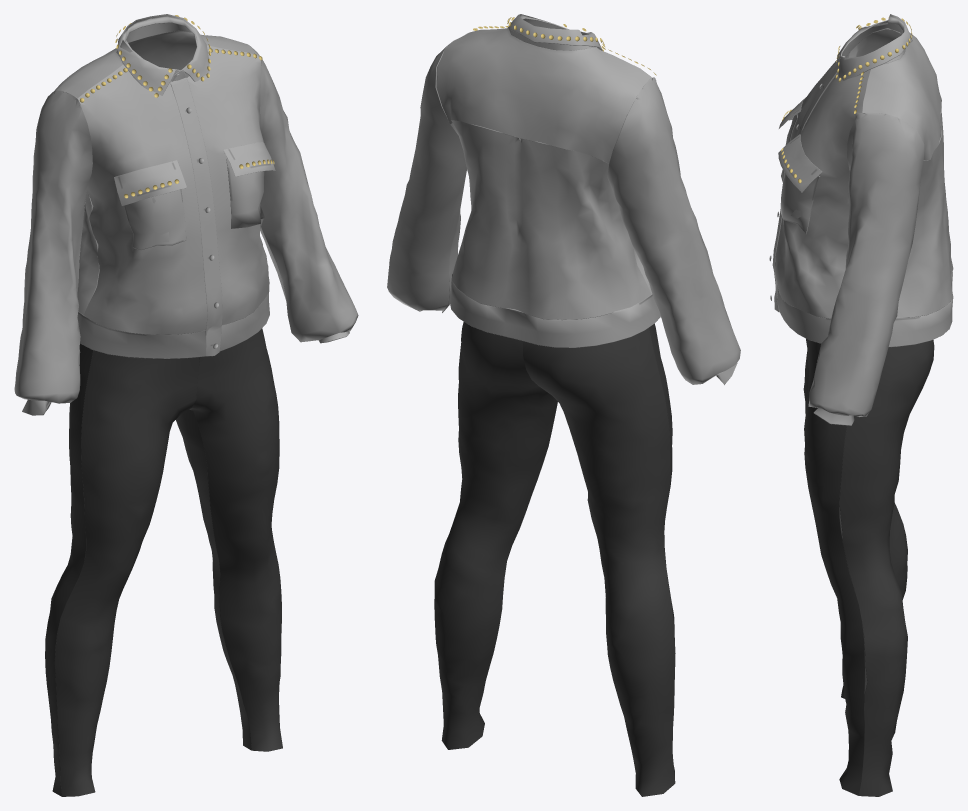
File: tofferjacket + legging.fbx
3 views of the same model, side by side, from view 1: azimuth 30°, elevation 25°; view 2: azimuth 150°, elevation 25°; view 3: azimuth 270°, elevation 25° (orthographic). The views are drawn at different scales.
Parts seen in each view (by area): view 1: 前片_3, 前片_1, 凯信-Toffe jacket_前片_3, 凯信-Toffe jacket_袖面_3, 凯信-Toffe jacket_袖面_4, 凯信-Toffe jacket_前片_4, 后片_3, 凯信-Toffe jacket_下摆_8, 凯信-Toffe jacket_门襟_3, 凯信-Toffe jacket_后育克_3, 后片_1, 凯信-Toffe jacket_袋 (+6 smaller); view 2: 后片_3, 凯信-Toffe jacket_后片_3, 后片_1, 凯信-Toffe jacket_袖面_3, 凯信-Toffe jacket_后育克_3, 凯信-Toffe jacket_袖面_4, 凯信-Toffe jacket_下摆_8, 凯信-Toffe jacket_上领, 前片_3, 凯信-Toffe jacket_下领; view 3: 后片_1, 凯信-Toffe jacket_袖面_4, 凯信-Toffe jacket_前片_4, 前片_1, 凯信-Toffe jacket_后片_3, 凯信-Toffe jacket_后育克_3, 凯信-Toffe jacket_下摆_8, 凯信-Toffe jacket_上领, 凯信-Toffe jacket_袋_1, Pattern2D_702460, 后片_3, 凯信-Toffe jacket_袖面_3 (+4 smaller).
Part boxes in pixels (x1,y1,x2,y2): 前片_3: (54, 350, 199, 796); 前片_1: (190, 328, 282, 751); 凯信-Toffe jacket_前片_3: (77, 64, 207, 334); 凯信-Toffe jacket_袖面_3: (14, 90, 92, 403); 凯信-Toffe jacket_袖面_4: (247, 44, 358, 342); 凯信-Toffe jacket_前片_4: (187, 45, 269, 324); 后片_3: (45, 343, 93, 796); 凯信-Toffe jacket_下摆_8: (77, 293, 269, 358); 凯信-Toffe jacket_门襟_3: (170, 77, 222, 356); 凯信-Toffe jacket_后育克_3: (55, 30, 258, 98); 后片_1: (176, 409, 272, 750); 凯信-Toffe jacket_袋: (124, 189, 186, 250); 后片_3: (523, 328, 675, 796); 凯信-Toffe jacket_后片_3: (450, 120, 651, 320); 后片_1: (434, 322, 557, 749); 凯信-Toffe jacket_袖面_3: (607, 77, 740, 384); 凯信-Toffe jacket_后育克_3: (437, 27, 652, 163); 凯信-Toffe jacket_袖面_4: (387, 33, 468, 312); 凯信-Toffe jacket_下摆_8: (449, 274, 660, 347); 凯信-Toffe jacket_上领: (508, 14, 602, 50); 前片_3: (649, 324, 675, 783); 凯信-Toffe jacket_下领: (508, 17, 595, 50); 后片_1: (839, 340, 934, 796); 凯信-Toffe jacket_袖面_4: (808, 112, 924, 416); 凯信-Toffe jacket_前片_4: (775, 69, 870, 318); 前片_1: (804, 338, 867, 795); 凯信-Toffe jacket_后片_3: (896, 101, 953, 317); 凯信-Toffe jacket_后育克_3: (862, 26, 941, 160); 凯信-Toffe jacket_下摆_8: (777, 272, 952, 347); 凯信-Toffe jacket_上领: (836, 14, 912, 80); 凯信-Toffe jacket_袋_1: (780, 174, 819, 233); Pattern2D_702460: (778, 134, 822, 192); 后片_3: (889, 503, 907, 599); 凯信-Toffe jacket_袖面_3: (849, 27, 901, 57).
Bounding box in the file's own units: 65.73 × 138 × 31.99.
Materials: 4 (2 with a texture image).
